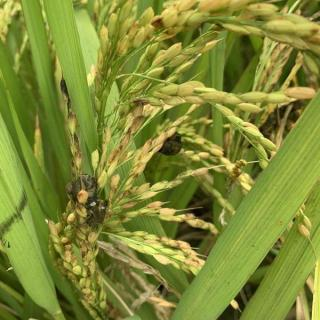Gosong-Palsu: (67, 174, 109, 226), (158, 128, 184, 156)
